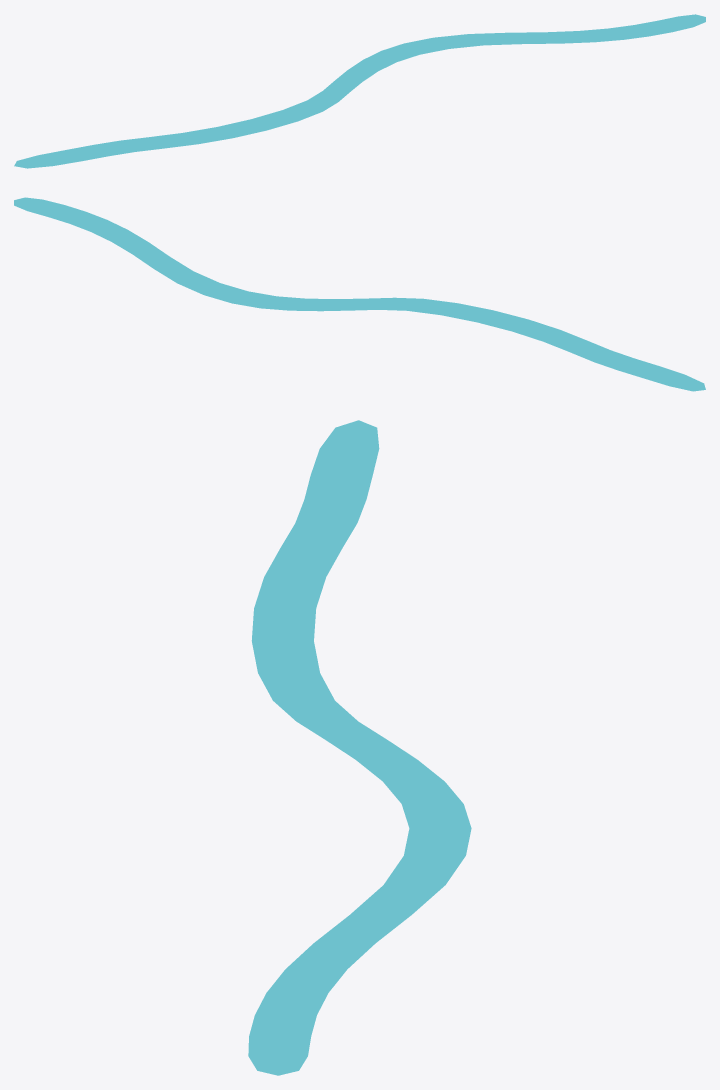
The model's file is River_test2.fbx.
3 views of the same model, one above another, from view 1: azimuth 30°, elevation 25°; view 2: azimuth 150°, elevation 25°; view 3: azimuth 270°, elevation 25° (orthographic). The views are drawn at different scales.
Parts seen in each view (by area): view 1: Water_river; view 2: Water_river; view 3: Water_river.
Part boxes in pixels (x1,y1,x2,y2): Water_river: [14, 14, 705, 168]; Water_river: [14, 197, 705, 391]; Water_river: [248, 420, 471, 1075].
Bounding box in the file's own units: 4988 × 0.000117 × 718.
